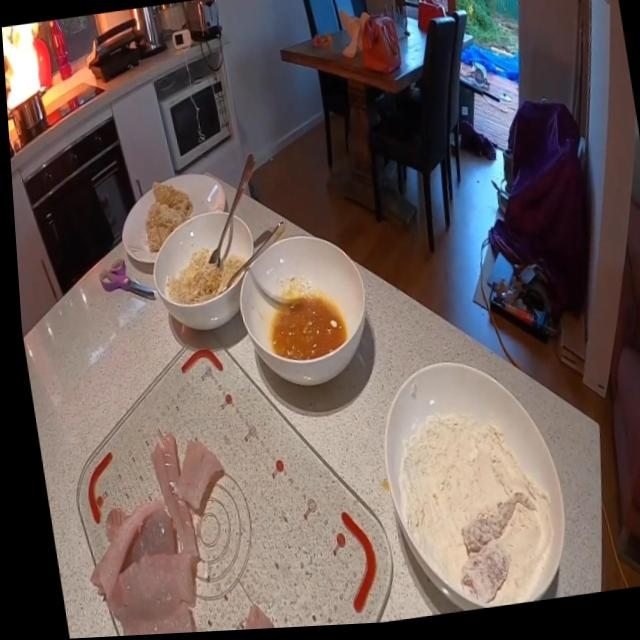fire: (1, 21, 48, 111)
